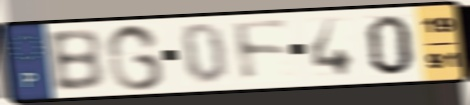0: (363, 13, 416, 77), (179, 21, 229, 87)
4: (309, 15, 358, 80)
B: (44, 27, 108, 94)
F: (230, 19, 294, 85)
G: (104, 22, 168, 93)
